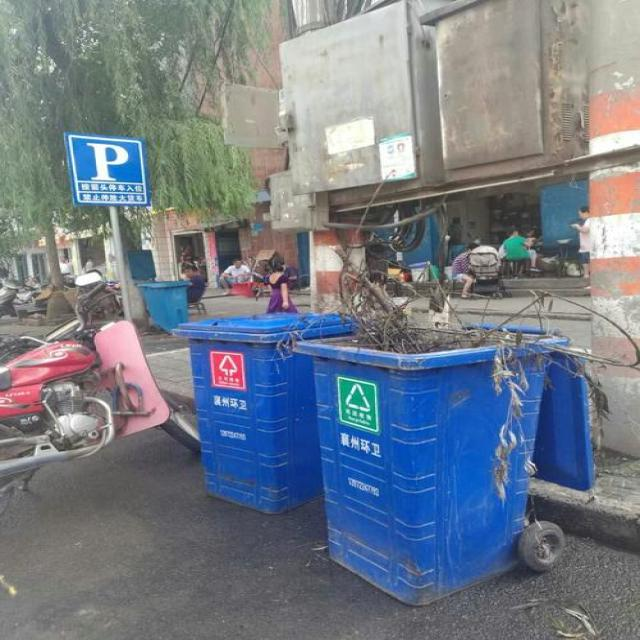garbage_bin: (171, 310, 356, 512), (136, 280, 188, 331)
overflow: (290, 246, 596, 606)
